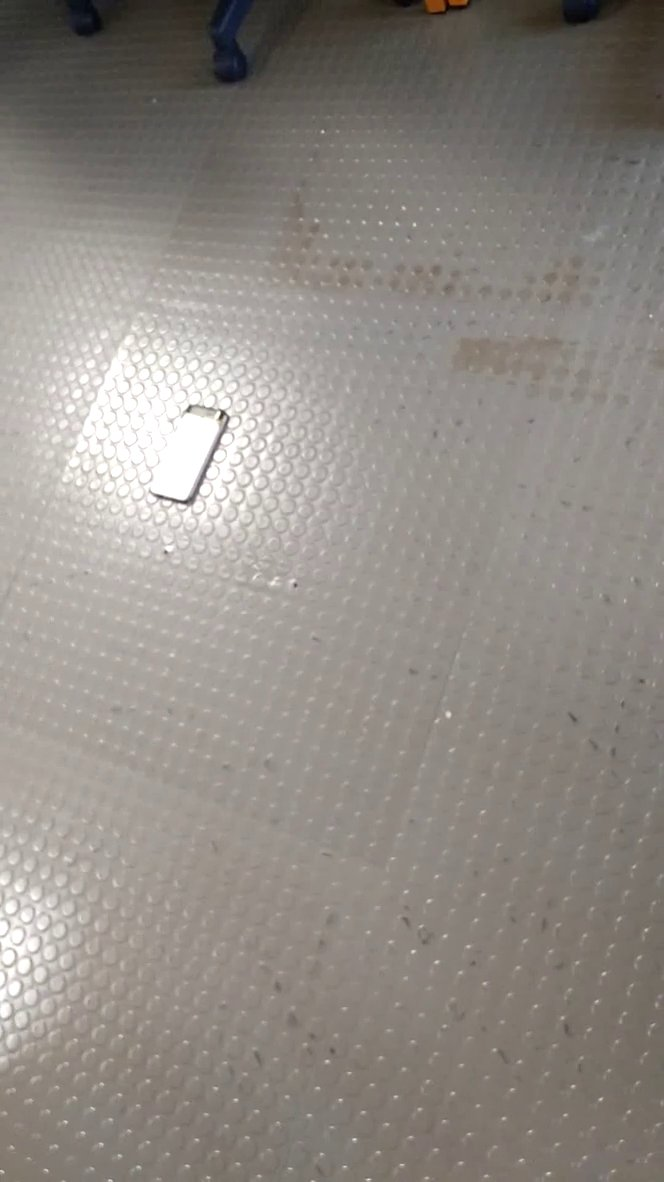phone: (140, 396, 247, 520)
